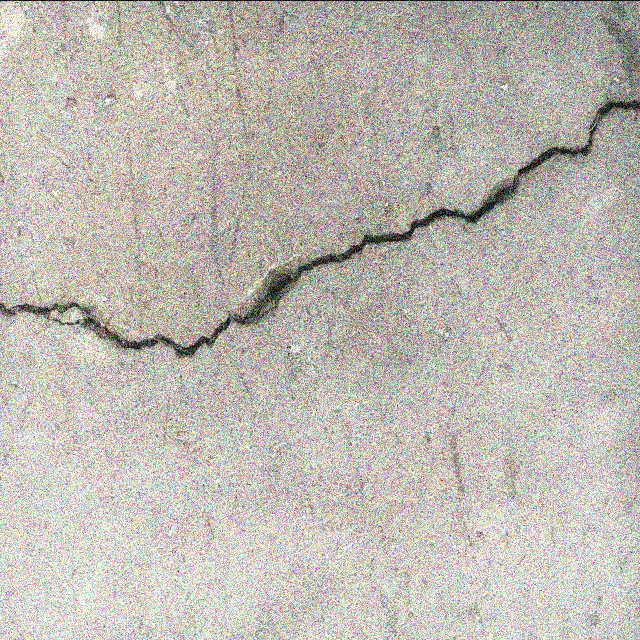SurfaceCrack: (1, 63, 640, 385)
